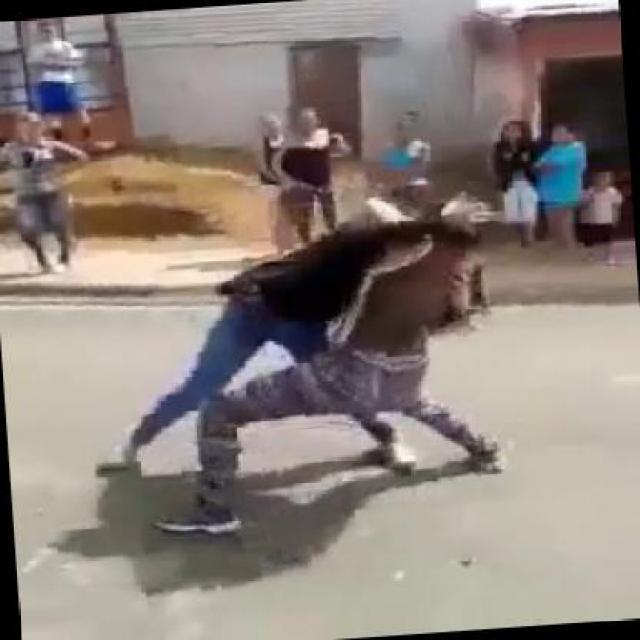fight: (83, 189, 514, 549)
